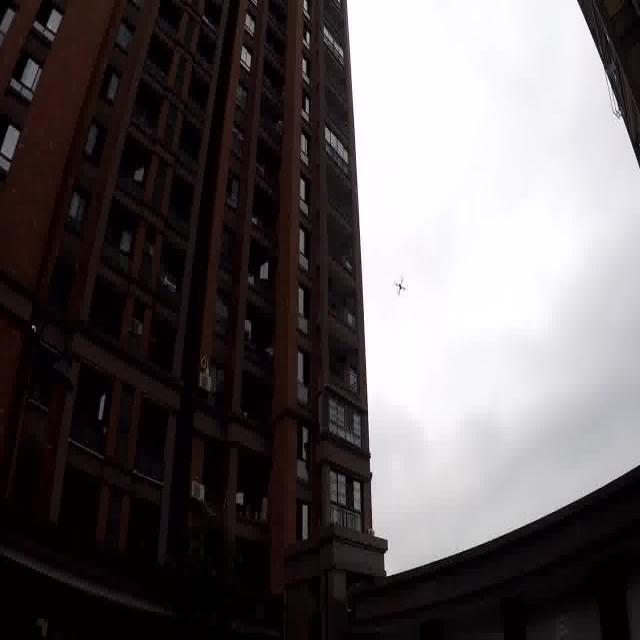drone: (392, 272, 407, 296)
